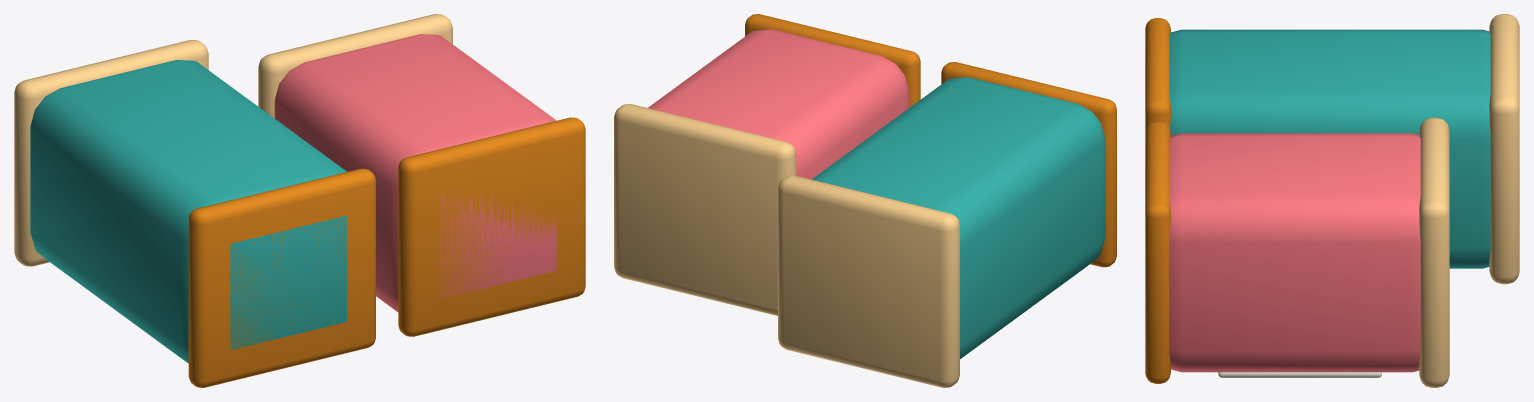
The model's file is RunnerTreats.fbx.
3 renders of one model, left to right at view 1: azimuth 30°, elevation 25°; view 2: azimuth 150°, elevation 25°; view 3: azimuth 270°, elevation 25°, orthographic. The views are drawn at different scales.
Visible parts, largest first — view 1: RunnerTreats; view 2: RunnerTreats; view 3: RunnerTreats.
Boxes of the visible parts, left/top/right/bottom form: RunnerTreats: left=14, top=14, right=585, bottom=387; RunnerTreats: left=614, top=14, right=1116, bottom=387; RunnerTreats: left=1145, top=14, right=1519, bottom=387.
Size of the model in its own units: 0.798 by 0.3907 by 0.641.
